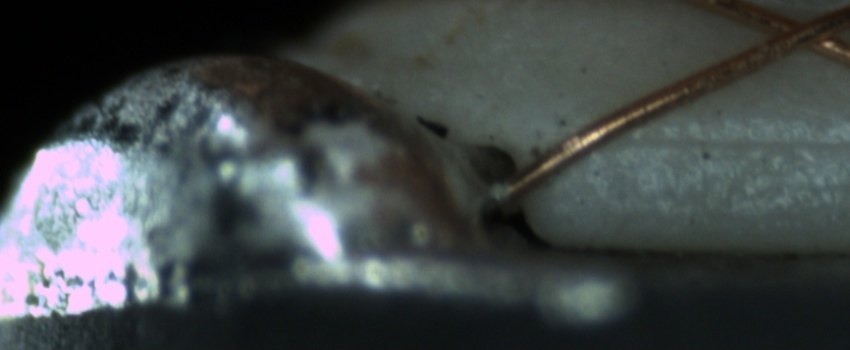CL: (742, 2, 844, 65)
DL: (611, 104, 841, 175)
